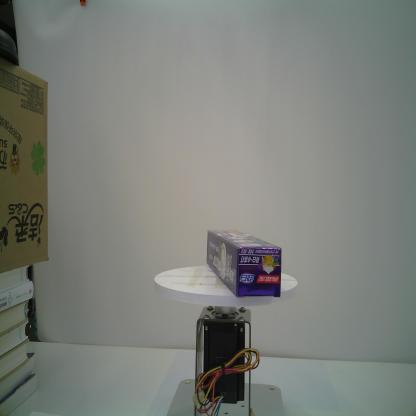Personal Hygiene: (206, 228, 283, 300)
